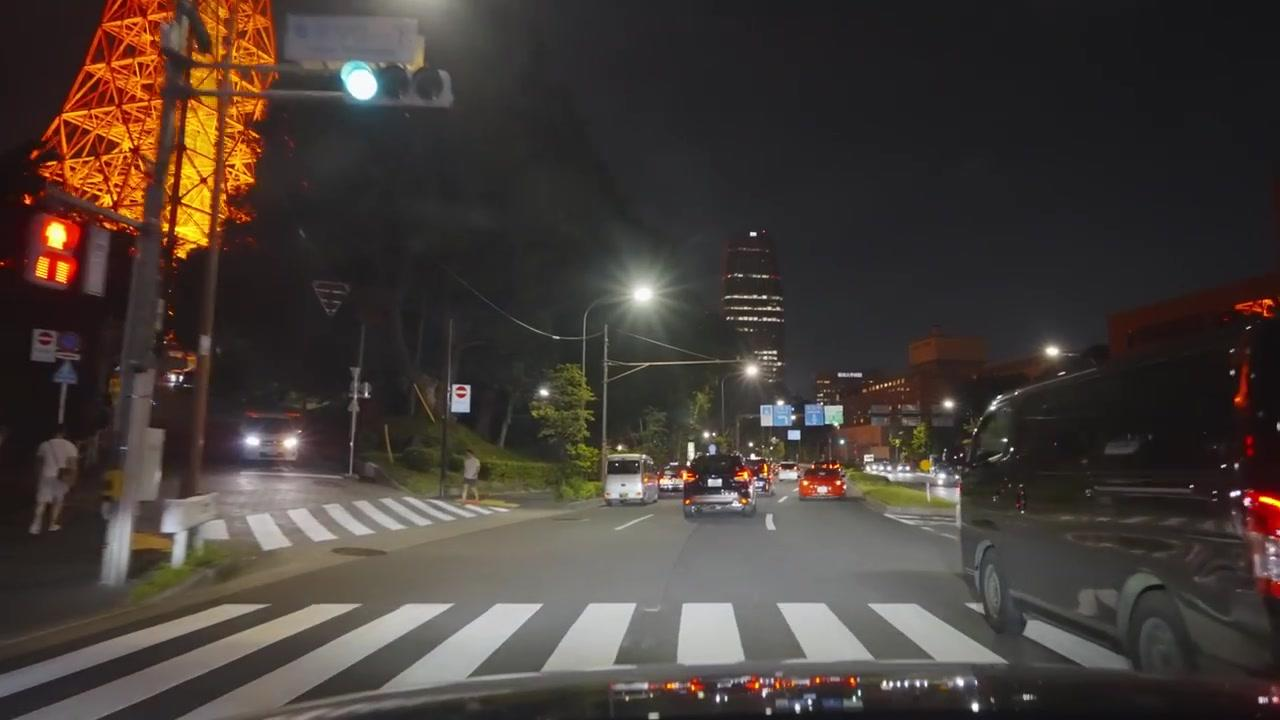bus: (603, 452, 660, 506)
car: (957, 303, 1277, 682), (681, 451, 757, 522), (240, 411, 302, 464), (797, 463, 847, 499), (659, 465, 685, 493), (776, 464, 799, 482)
person: (26, 422, 79, 535), (461, 448, 481, 503)
traffic light: (23, 211, 83, 293), (338, 60, 420, 103)
truck: (956, 288, 1279, 680), (682, 451, 756, 522)
